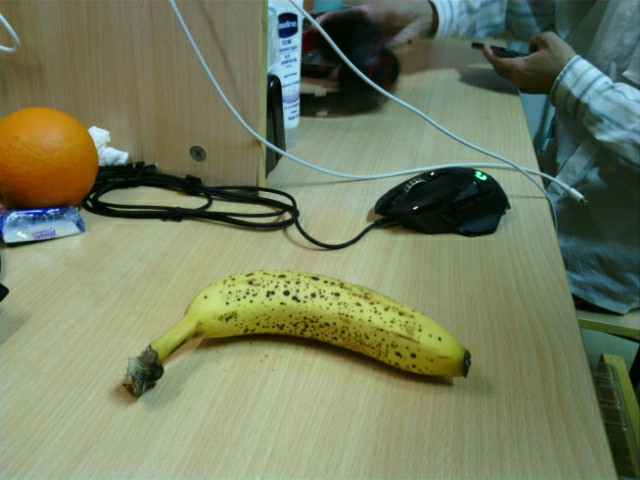normal_banana: (124, 268, 473, 400)
normal_orange: (2, 105, 98, 203)
